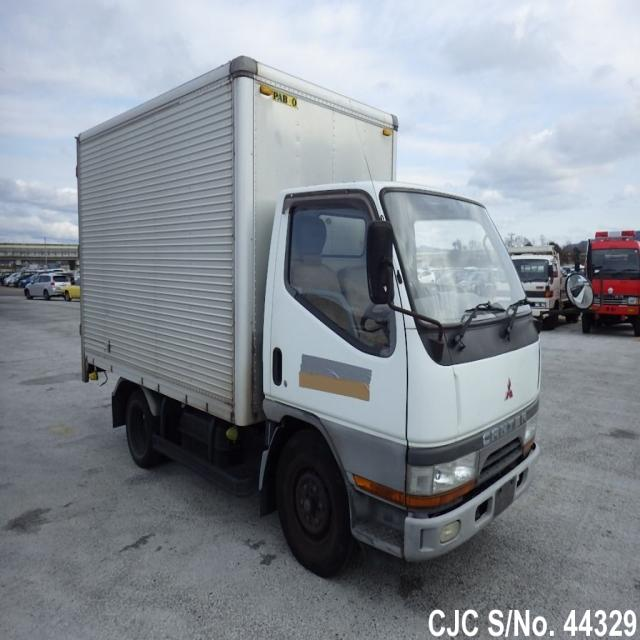truck: (75, 53, 542, 574)
